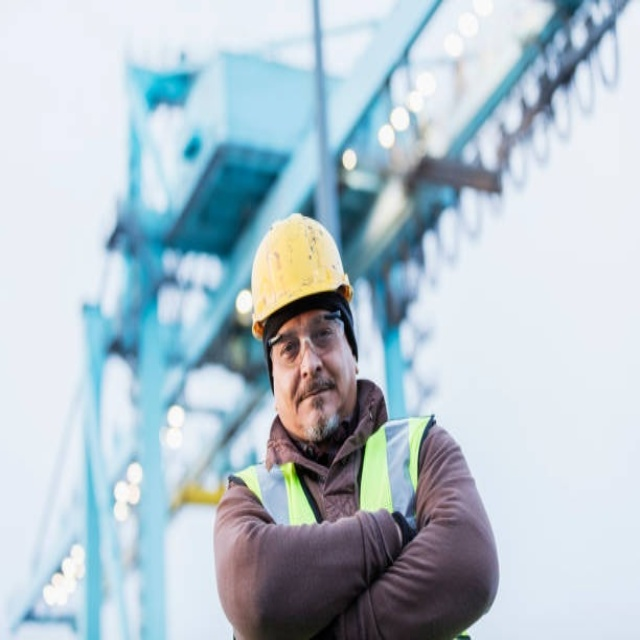Gafas: (268, 314, 346, 367)
Sin_mascara: (294, 370, 338, 420)
